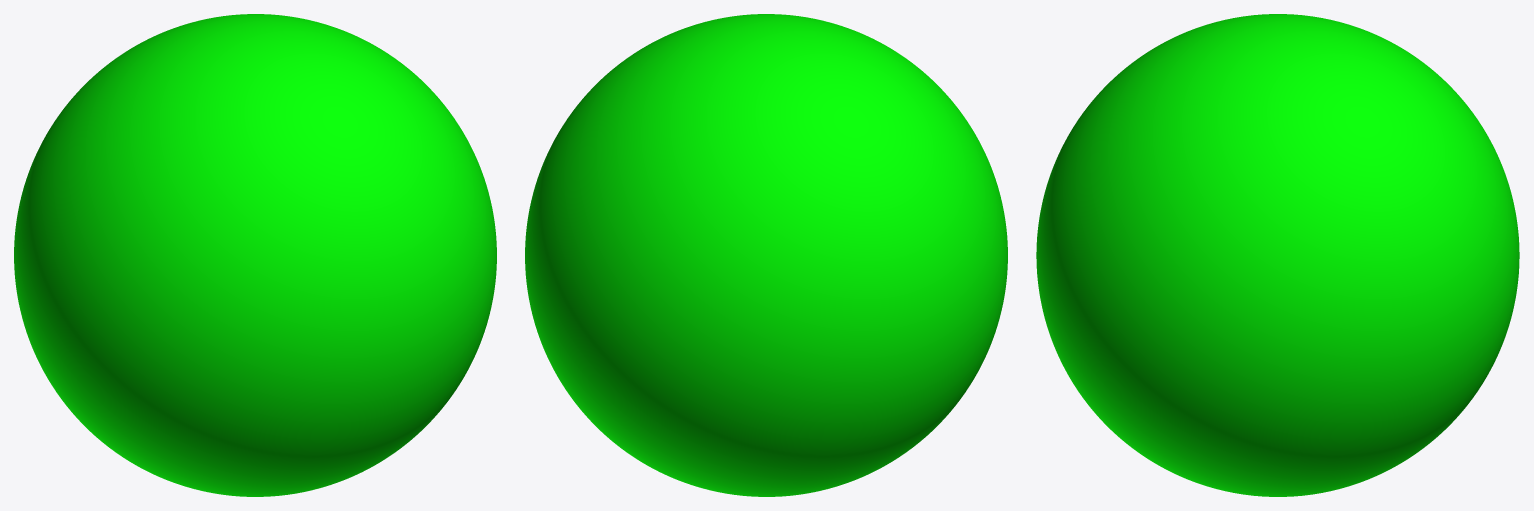
Rendered from greenBall.dae.
The picture shows the model from 3 angles, left to right: view 1: azimuth 30°, elevation 25°; view 2: azimuth 150°, elevation 25°; view 3: azimuth 270°, elevation 25°; orthographic projection.
Parts seen in each view (by area): view 1: greenBall; view 2: greenBall; view 3: greenBall.
Boxes of the visible parts, x1,y1,x2,y2 form: greenBall: (14,14,496,496); greenBall: (525,14,1007,496); greenBall: (1036,14,1519,496).
Size of the model in its own units: 104 by 104 by 104.
